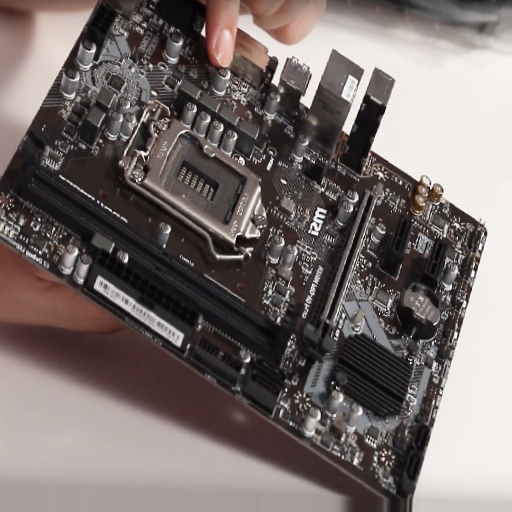CPU: (127, 114, 269, 239)
GPU: (305, 188, 379, 357)
MOTHERBOARD: (2, 1, 481, 494)
RAM: (17, 129, 300, 364)
